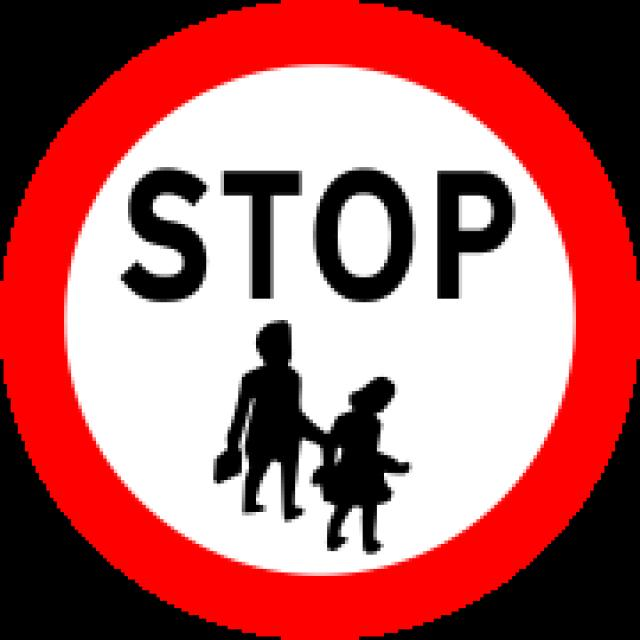Traffic sign: (36, 28, 607, 615)
